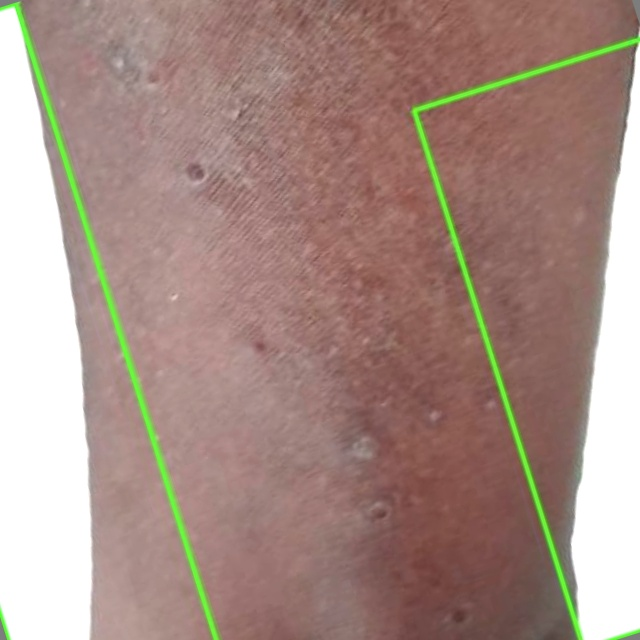Contact Dermatitis: (414, 39, 639, 639)
